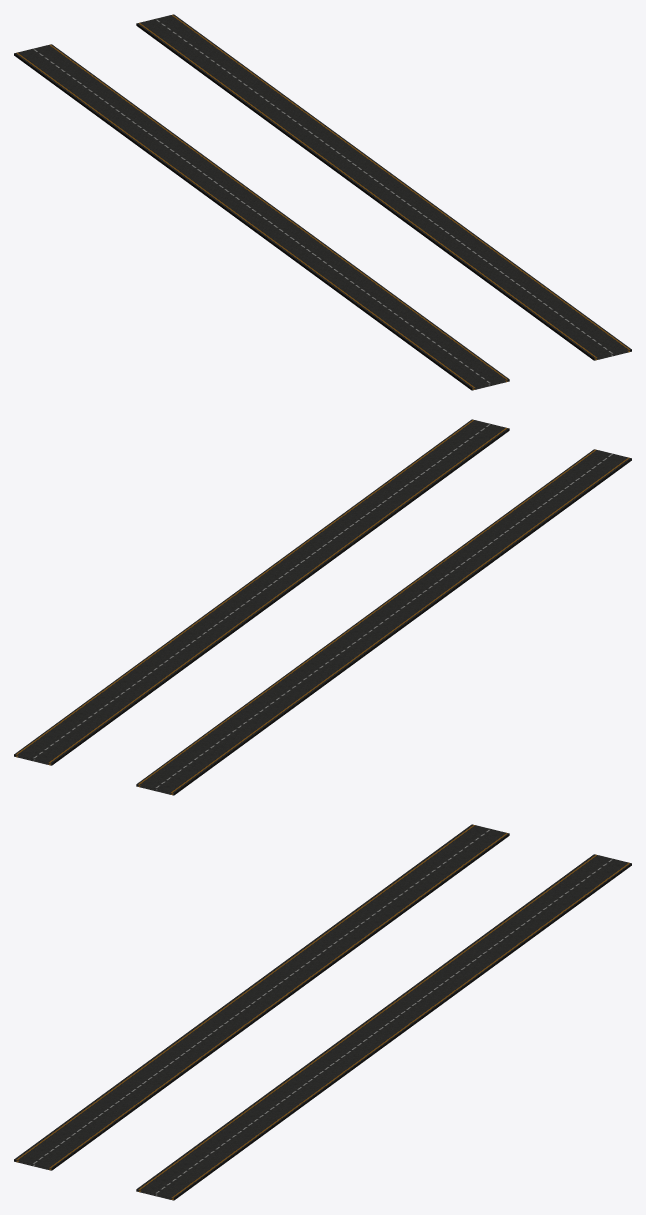
File: gnfdhfdxht.fbx
3 views of the same model, one above another, from view 1: azimuth 30°, elevation 25°; view 2: azimuth 150°, elevation 25°; view 3: azimuth 330°, elevation 25° (orthographic).
Parts seen in each view (by area): view 1: Plane, Plane.005; view 2: Plane, Plane.005; view 3: Plane, Plane.005.
Part boxes in pixels (box(x1,y1,x2,y2)): Plane: box(14, 44, 509, 390); Plane.005: box(136, 14, 631, 360); Plane: box(136, 449, 631, 795); Plane.005: box(14, 419, 509, 765); Plane: box(14, 824, 509, 1170); Plane.005: box(136, 854, 631, 1200).
Bounding box in the file's own units: 847 × 10.82 × 4200.
Materials: 1 (1 with a texture image).
